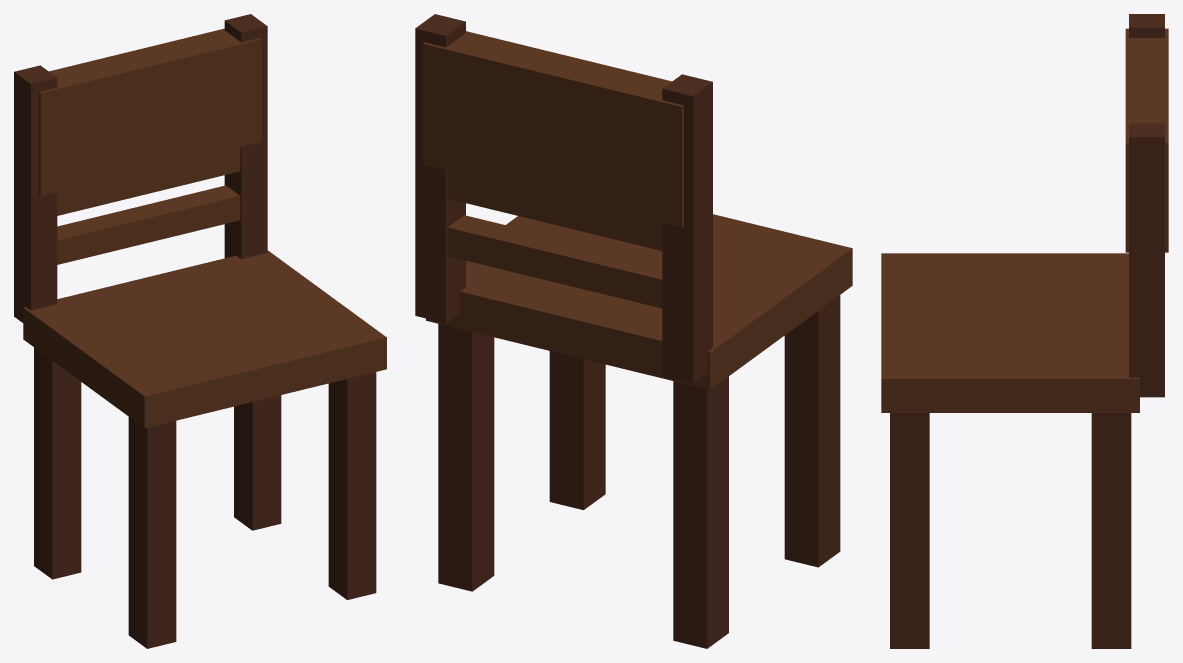
File: chair_stacking.glb
The picture shows the model from 3 angles, left to right: view 1: azimuth 30°, elevation 25°; view 2: azimuth 150°, elevation 25°; view 3: azimuth 270°, elevation 25°; orthographic projection. The views are drawn at different scales.
Visible parts, largest first — view 1: body; view 2: body; view 3: body.
Part boxes in pixels (x1,y1,x2,y2): body: (14, 14, 386, 648); body: (415, 14, 852, 648); body: (881, 14, 1168, 648).
Size of the model in its own units: 0.414 by 0.79 by 0.4.
Materials: 1 (1 with a texture image).
